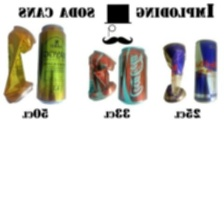can: (2, 22, 37, 107), (37, 21, 71, 108), (189, 34, 222, 105), (117, 45, 153, 110), (84, 46, 118, 101), (161, 39, 188, 104)
